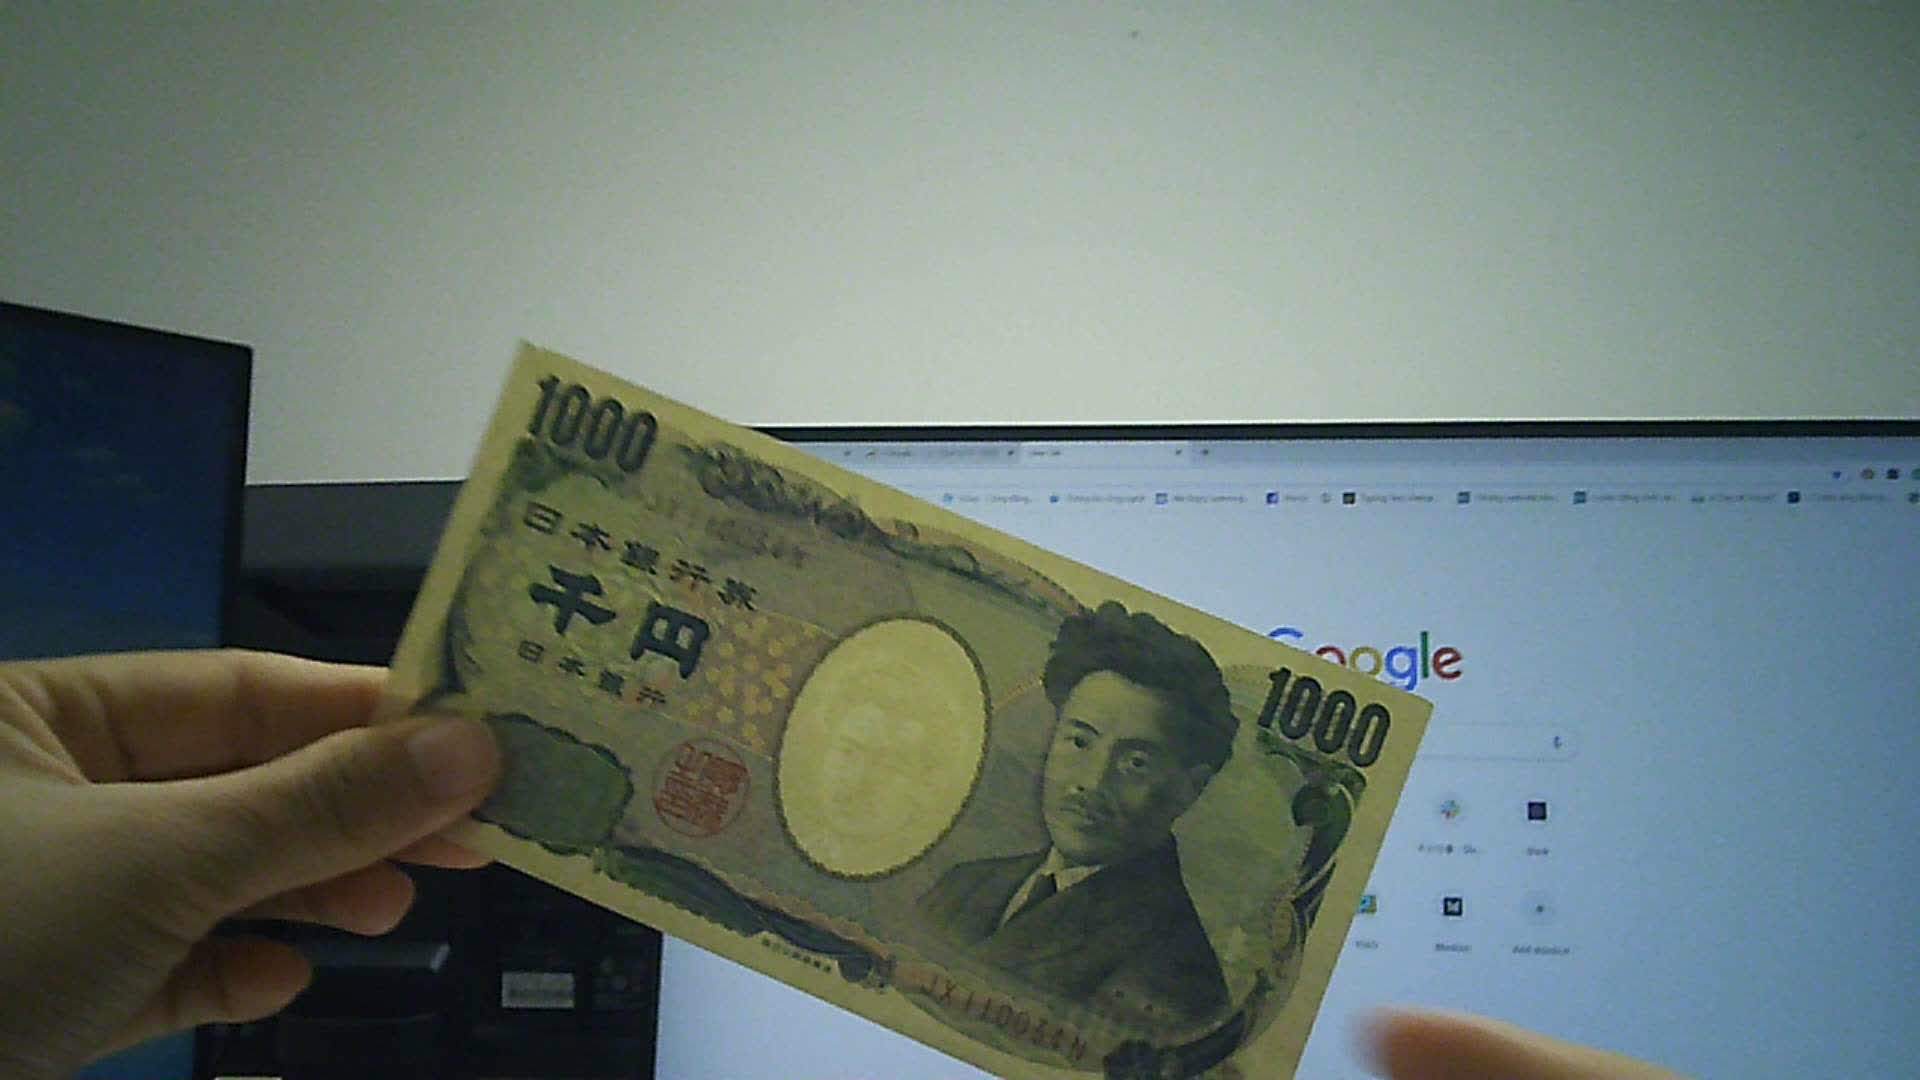1,000 Yen: (359, 334, 1437, 1079)
